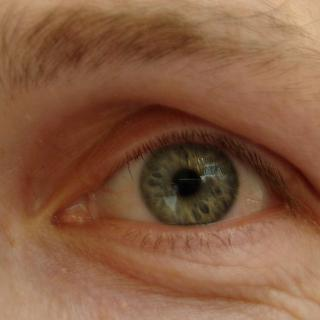pupil: (172, 168, 200, 197)
